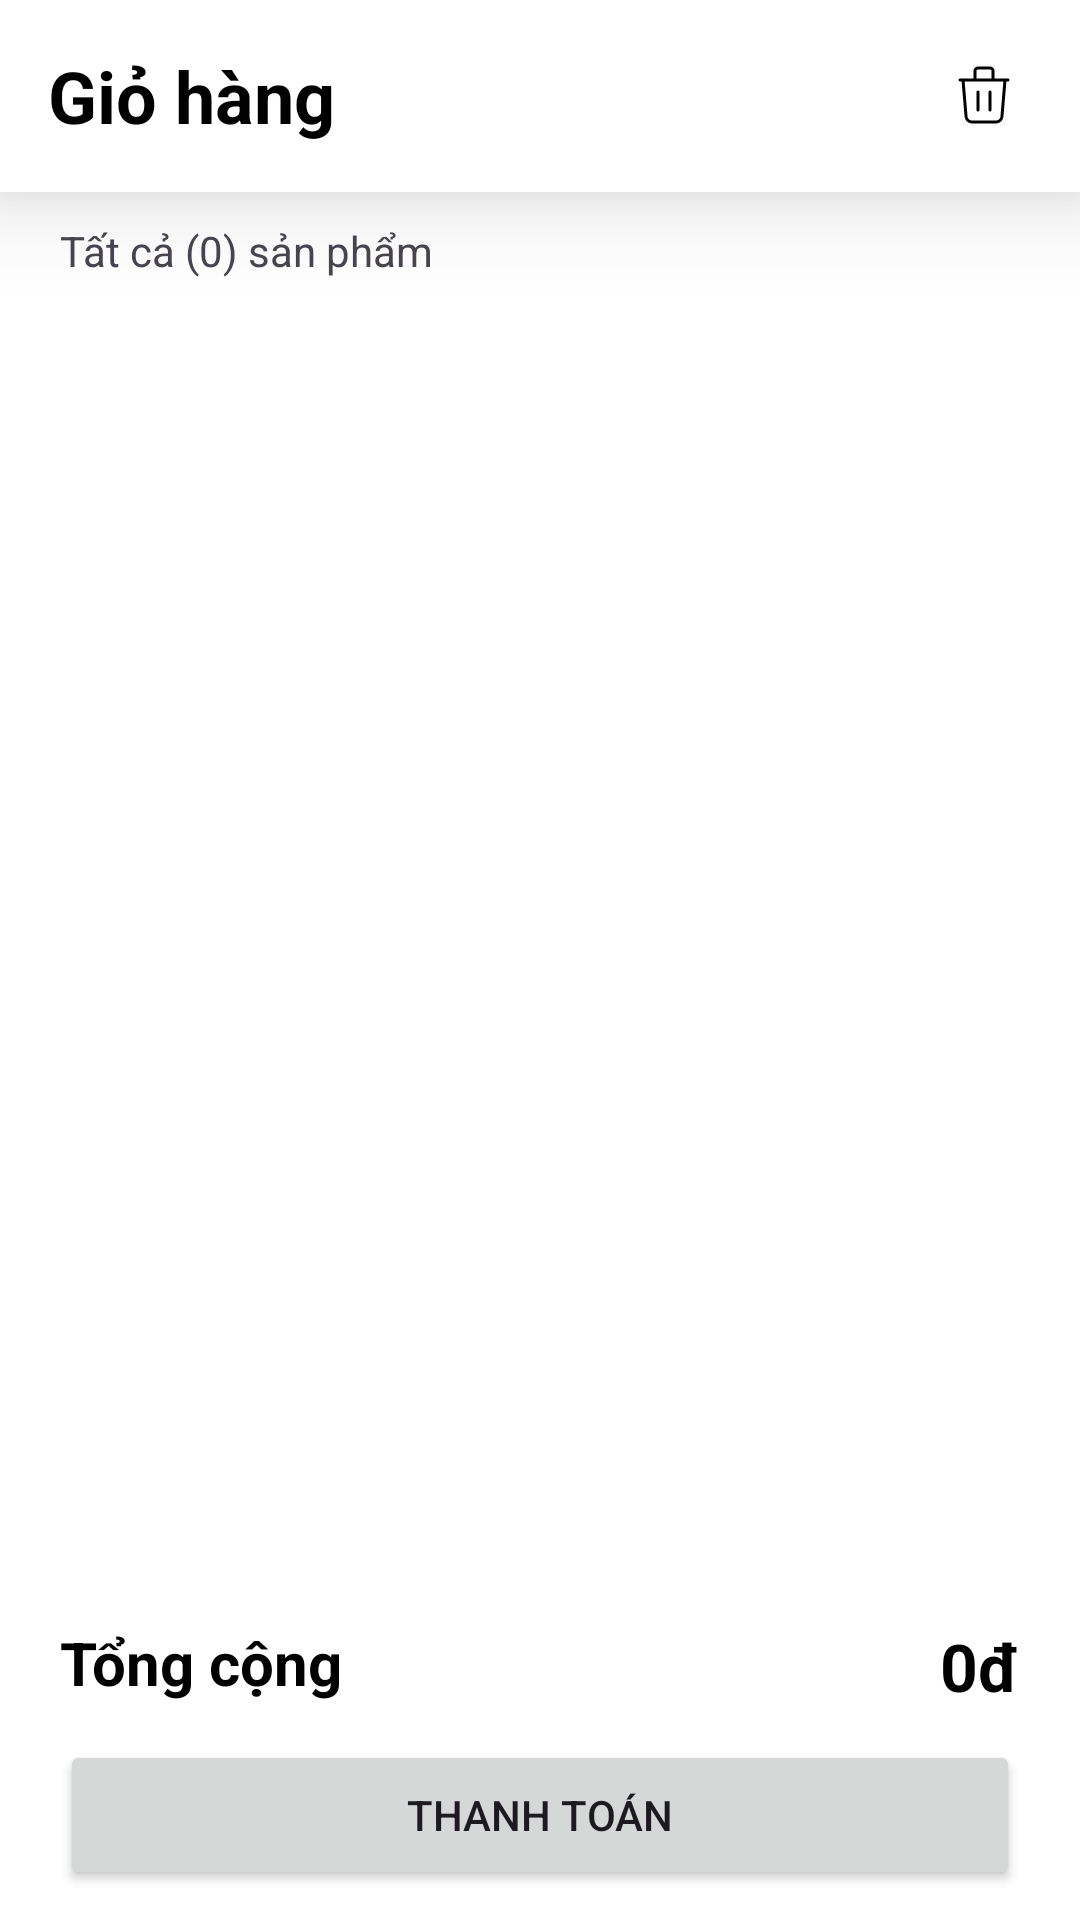

Point at icon controls on the screen. Image size 1080 x 1920, points as (x=x, y=y).
bin: (x=984, y=95)
